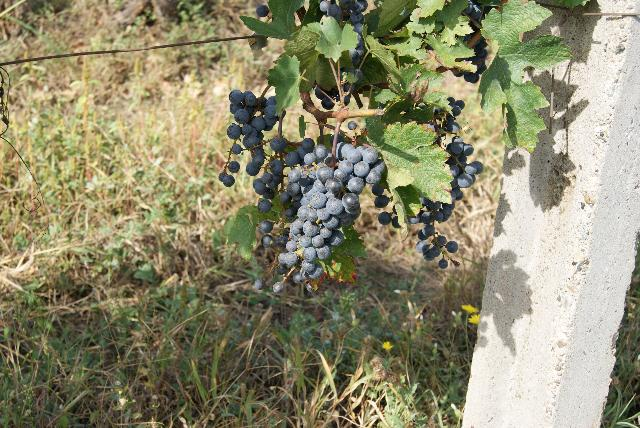grapes: (289, 141, 385, 282), (409, 138, 484, 269), (246, 138, 291, 234), (226, 90, 278, 155)
